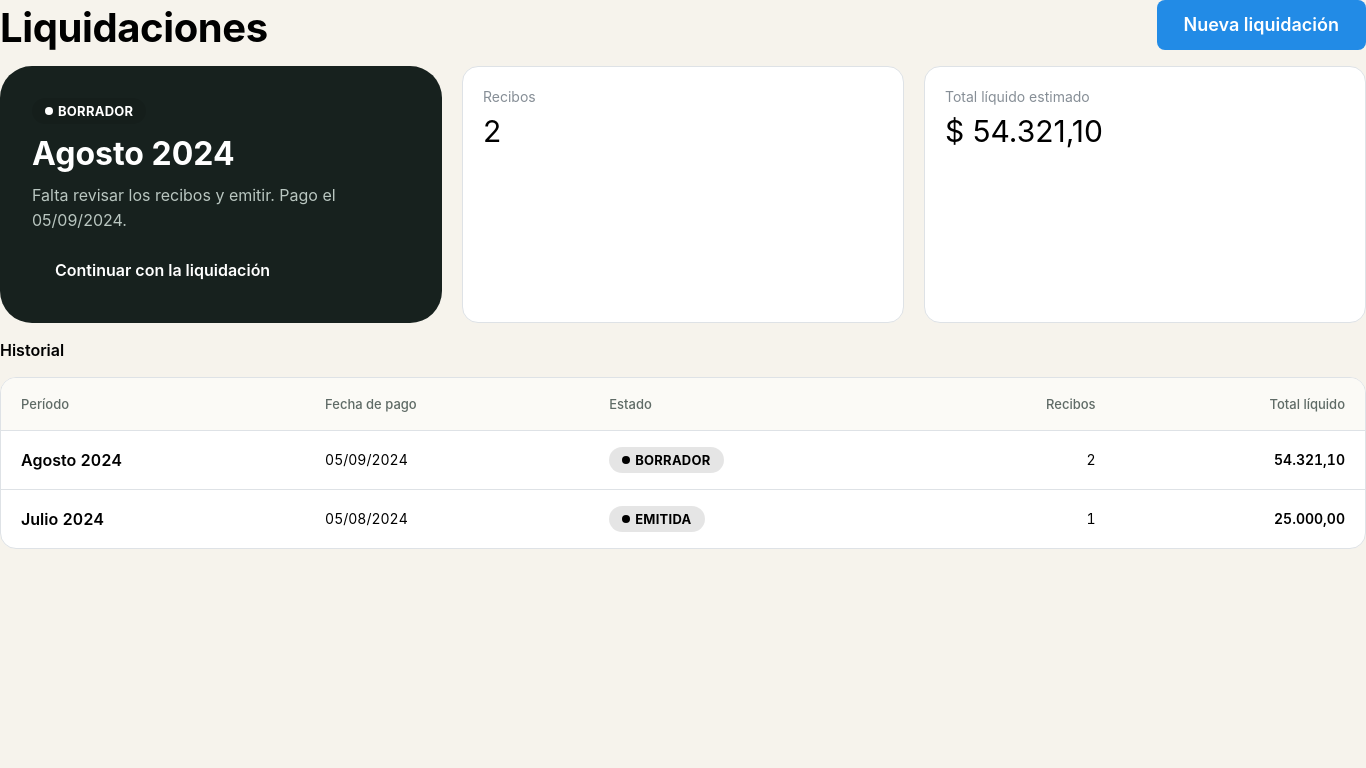
Test: LiquidacionesPage › shows the blocked-creation message naming the workers without conditions
This screenshot has width=1366, height=768.
Click the button "Nueva liquidación": (1261, 25) x1=1157 y1=0 x2=1365 y2=50
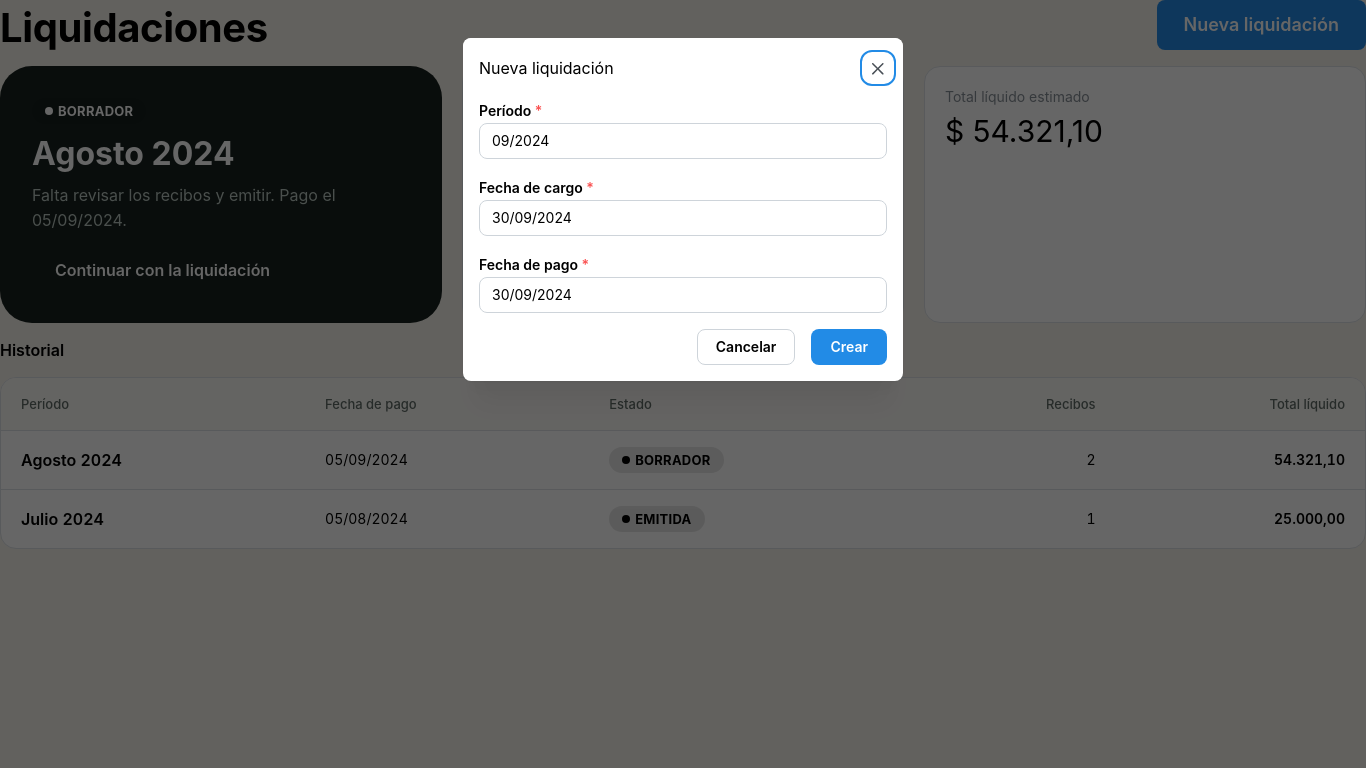
Click the button "Crear": (849, 347) x1=811 y1=329 x2=887 y2=365
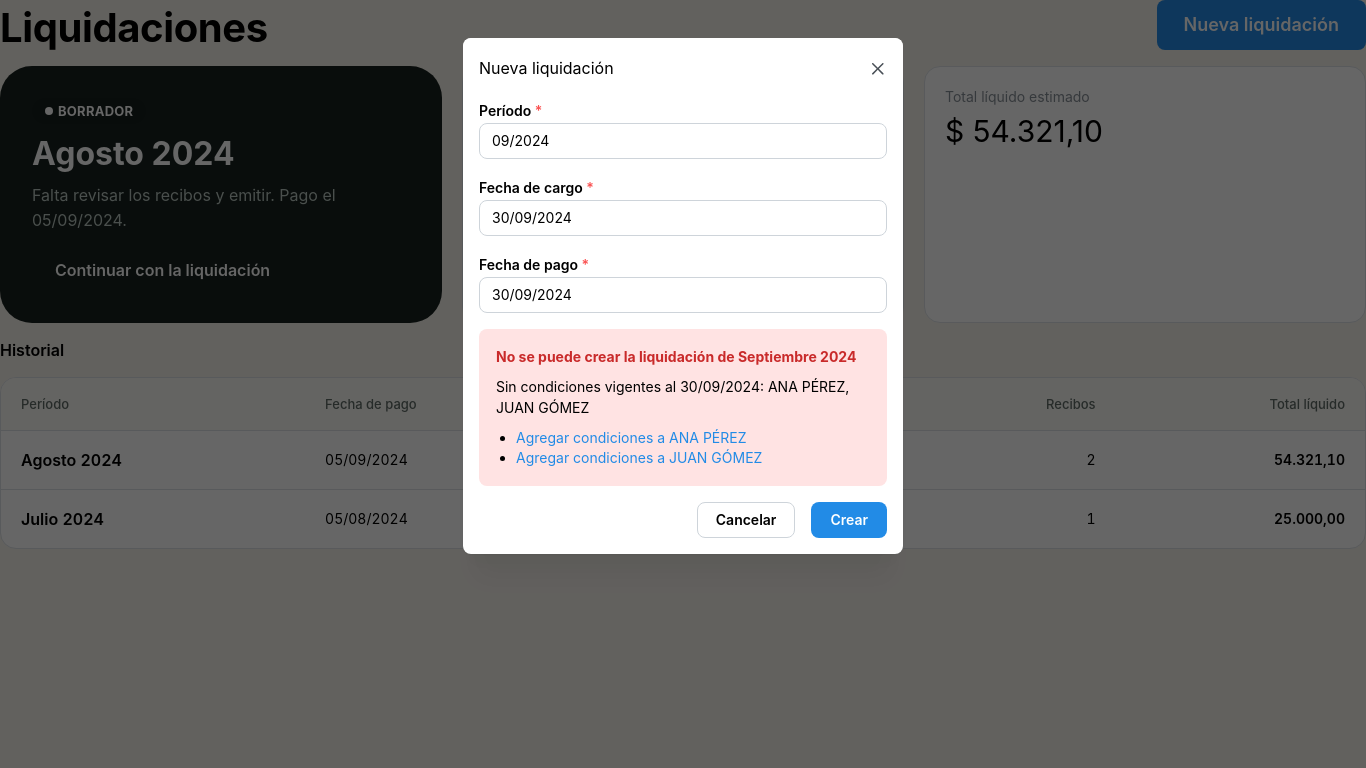
expect the message shows "No se puede crear la liquidación de Septiembre 2024": met, box x1=496 y1=348 x2=856 y2=365
expect the message shows "Sin condiciones vigentes al 30/09/2024: ANA PÉREZ, JUAN GÓMEZ": met, box x1=496 y1=378 x2=849 y2=416
